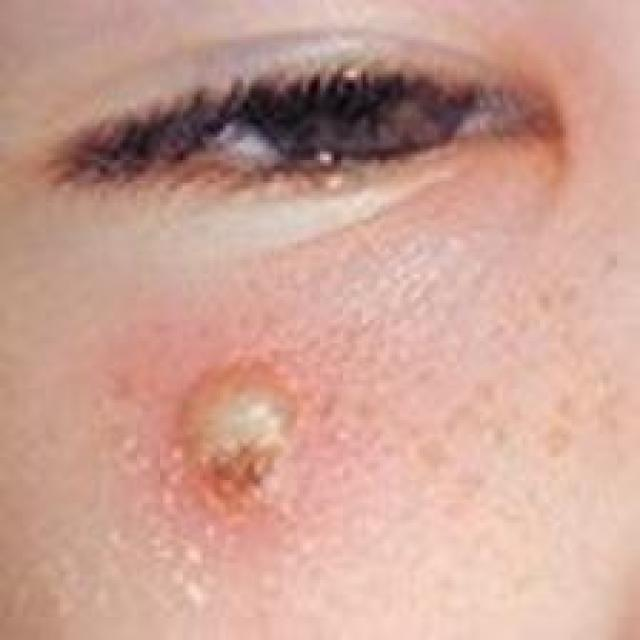others: (17, 15, 639, 615)
